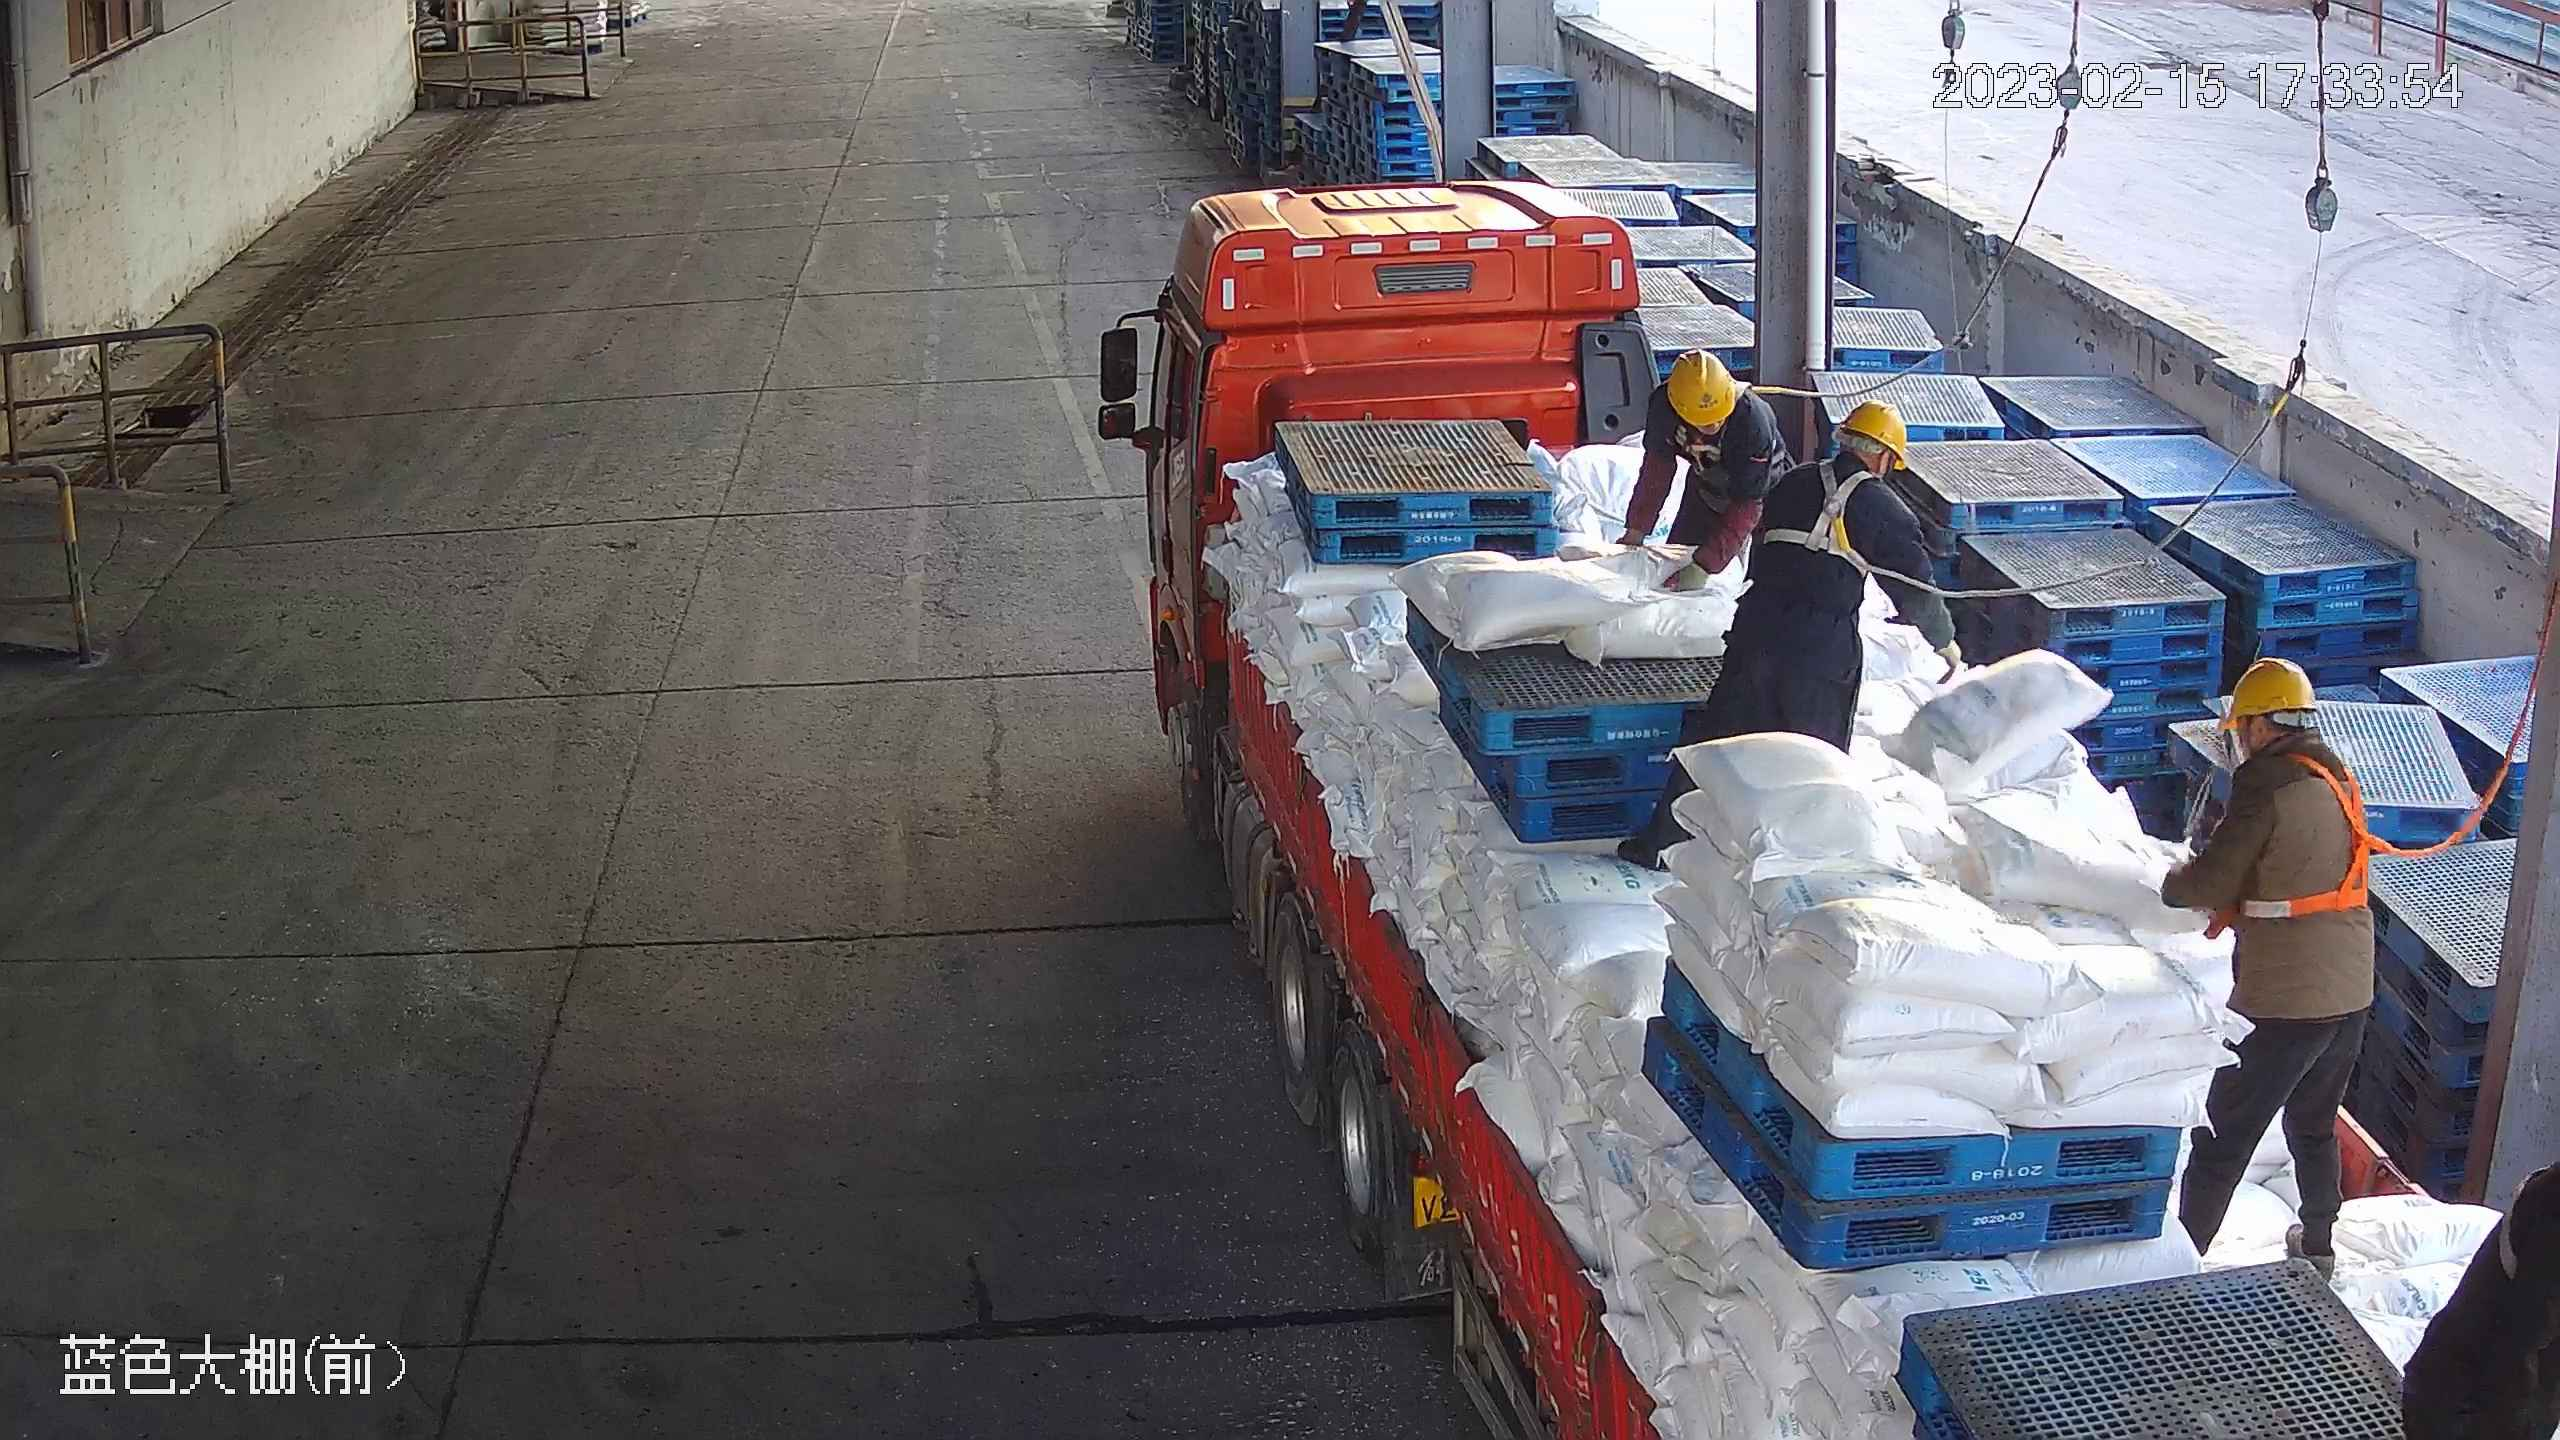belt: (2229, 748, 2396, 919), (1760, 457, 1926, 590), (1664, 383, 1789, 474)
head: (2212, 654, 2364, 803), (1756, 400, 1919, 530), (1648, 349, 1776, 439)
helmet: (2218, 655, 2314, 731), (1667, 349, 1737, 427), (1832, 400, 1909, 471)
people: (1614, 399, 1967, 875), (2161, 655, 2376, 1283), (1611, 348, 1800, 594)
truck: (1142, 177, 2560, 1440)
